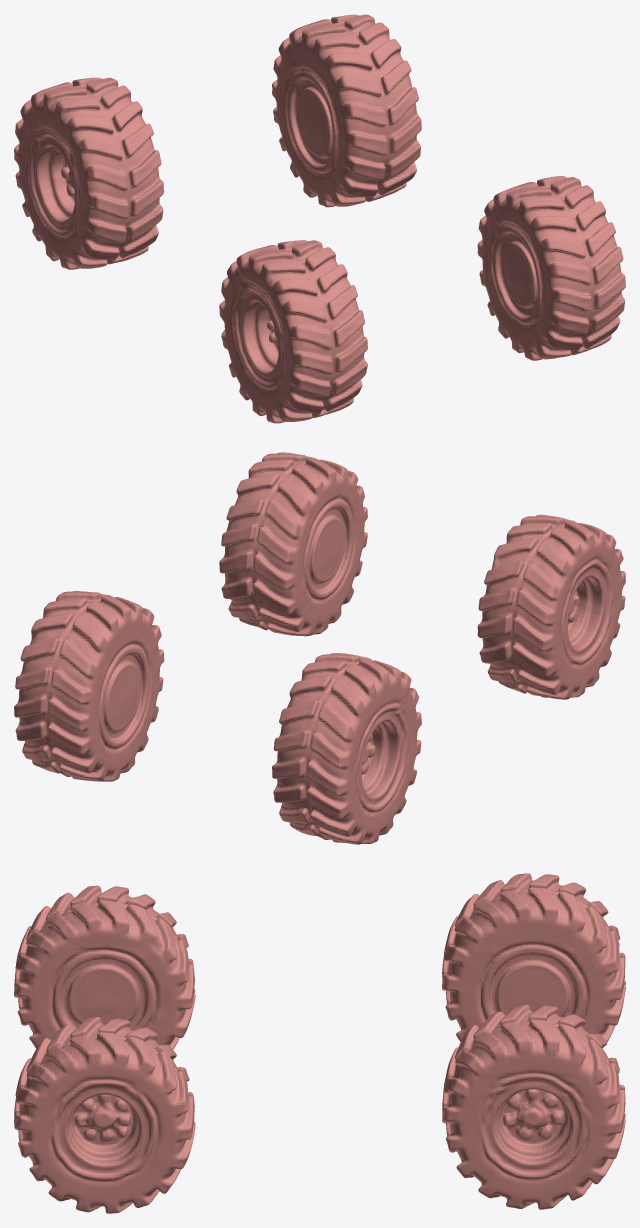
File: combined_parts.glb
3 views of the same model, one above another, from view 1: azimuth 30°, elevation 25°; view 2: azimuth 150°, elevation 25°; view 3: azimuth 270°, elevation 25° (orthographic). The views are drawn at different scales.
Parts seen in each view (by area): view 1: part_001_5193df94_e1_restored_001; view 2: part_001_5193df94_e1_restored_001; view 3: part_001_5193df94_e1_restored_001.
Boxes of the visible parts, bbox=[...] form: part_001_5193df94_e1_restored_001: bbox=[14, 14, 625, 423]; part_001_5193df94_e1_restored_001: bbox=[14, 452, 625, 844]; part_001_5193df94_e1_restored_001: bbox=[14, 873, 625, 1213].
Size of the model in its own units: 0.6063 by 0.3089 by 0.9293.
